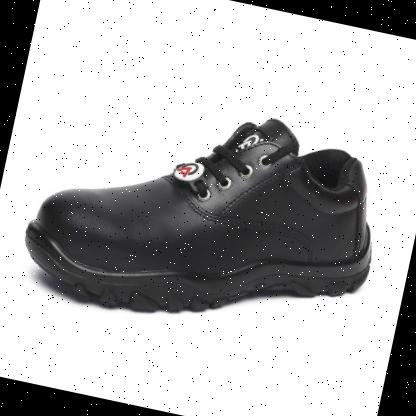bota: (8, 67, 400, 367)
